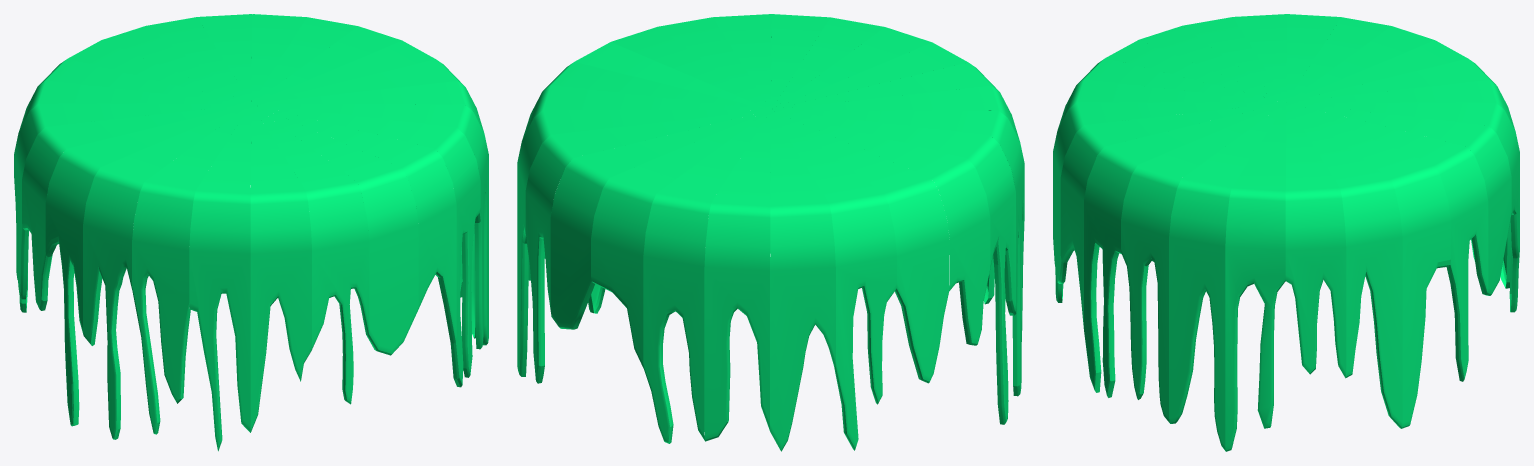
The model's file is Ara_katman_5Y.fbx.
3 renders of one model, left to right at view 1: azimuth 30°, elevation 25°; view 2: azimuth 150°, elevation 25°; view 3: azimuth 270°, elevation 25°, orthographic. The views are drawn at different scales.
Parts seen in each view (by area): view 1: p99, p24, p85, p83, p84, p98, p97, p82, p81, p96, p80, p95 (+12 smaller); view 2: p93, p92, p91, p94, p95, p90, p89, p96, p97, p88, p87, p98 (+12 smaller); view 3: p79, p77, p78, p76, p80, p87, p81, p88, p82, p89, p83, p90 (+12 smaller).
Boxes of the visible parts, x1=… form: p99: x1=189, y1=104, x2=251, y2=451; p24: x1=132, y1=104, x2=250, y2=434; p85: x1=250, y1=104, x2=311, y2=432; p83: x1=252, y1=104, x2=418, y2=355; p84: x1=252, y1=104, x2=369, y2=404; p98: x1=83, y1=104, x2=250, y2=439; p97: x1=45, y1=104, x2=249, y2=426; p82: x1=252, y1=104, x2=456, y2=343; p81: x1=252, y1=104, x2=480, y2=387; p96: x1=22, y1=104, x2=250, y2=310; p80: x1=253, y1=104, x2=488, y2=349; p95: x1=14, y1=103, x2=249, y2=299; p93: x1=770, y1=111, x2=835, y2=451; p92: x1=704, y1=110, x2=770, y2=441; p91: x1=643, y1=110, x2=770, y2=443; p94: x1=771, y1=110, x2=896, y2=450; p95: x1=772, y1=111, x2=949, y2=383; p90: x1=591, y1=110, x2=769, y2=367; p89: x1=550, y1=110, x2=769, y2=329; p96: x1=772, y1=110, x2=990, y2=345; p97: x1=772, y1=110, x2=1015, y2=424; p88: x1=525, y1=110, x2=769, y2=383; p87: x1=517, y1=110, x2=767, y2=376; p98: x1=774, y1=110, x2=1024, y2=396; p79: x1=1169, y1=103, x2=1285, y2=451; p77: x1=1287, y1=103, x2=1402, y2=428; p78: x1=1225, y1=103, x2=1286, y2=451; p76: x1=1285, y1=102, x2=1346, y2=377; p80: x1=1121, y1=103, x2=1285, y2=422; p87: x1=1287, y1=103, x2=1450, y2=428; p81: x1=1084, y1=103, x2=1284, y2=397; p88: x1=1287, y1=102, x2=1488, y2=381; p82: x1=1060, y1=102, x2=1284, y2=328; p89: x1=1288, y1=102, x2=1511, y2=295; p83: x1=1053, y1=102, x2=1285, y2=283; p90: x1=1287, y1=102, x2=1519, y2=258.
Bounding box in the file's own units: 1.67 × 1.01 × 1.67.
